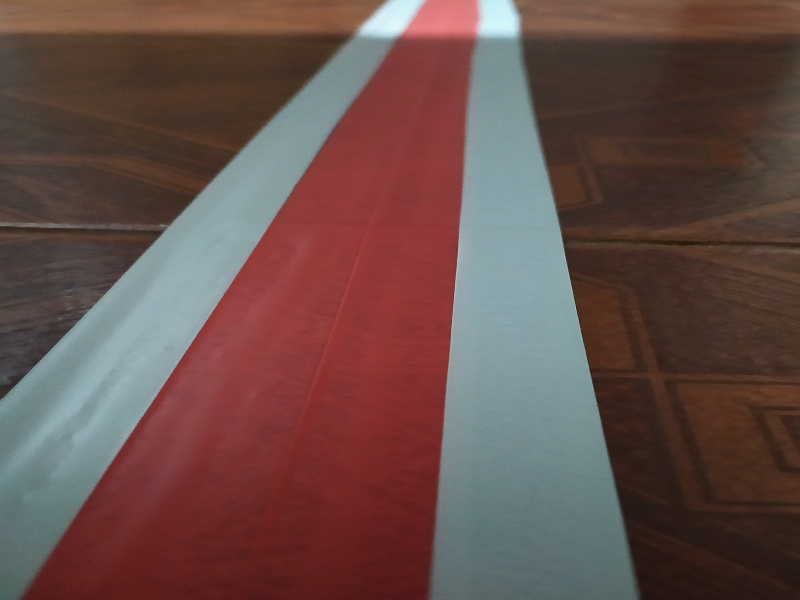faixa: (1, 321, 635, 598), (129, 191, 578, 319), (201, 97, 551, 187), (297, 1, 536, 93)
